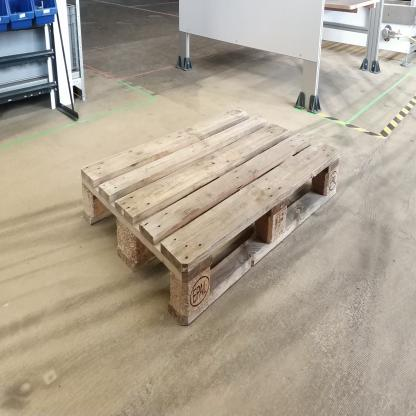BoxFace: (75, 103, 344, 338)
